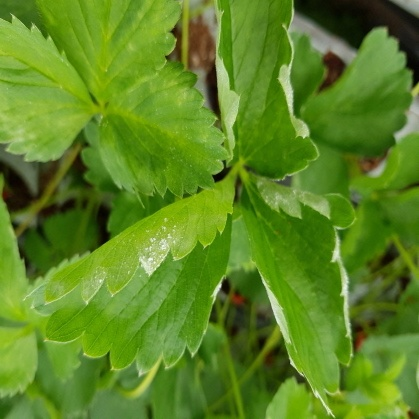Powdery_Leaf: (181, 42, 399, 244), (60, 1, 241, 242), (98, 168, 235, 418)
